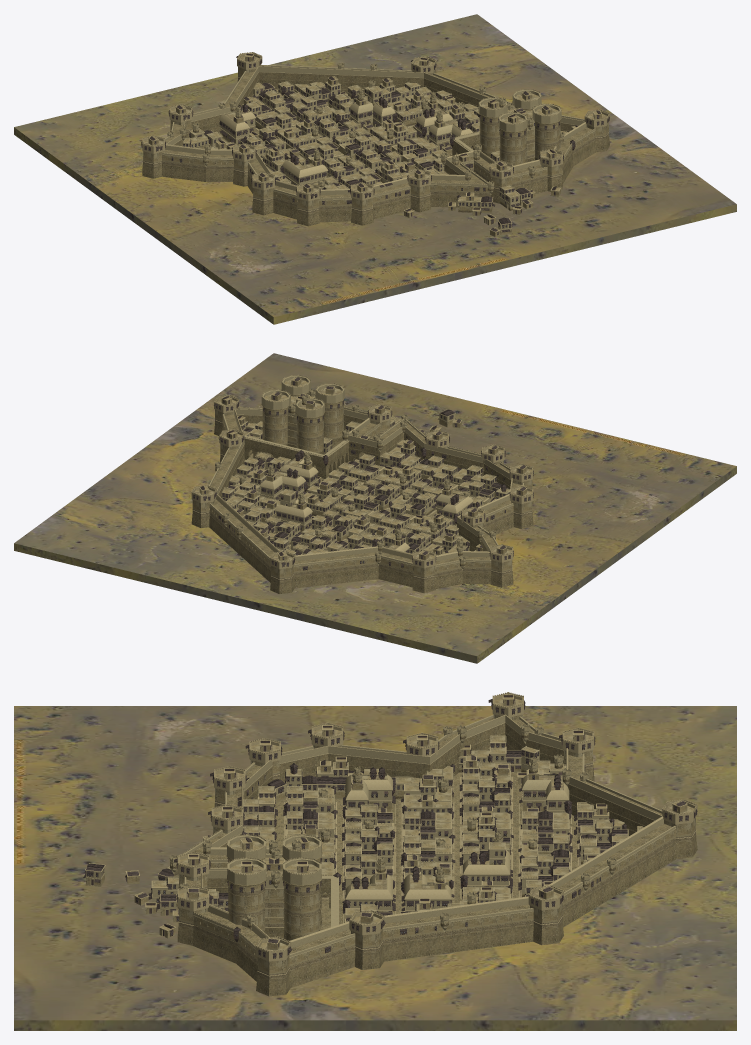
Rendered from persian-city-fortress.glb.
3 renders of one model, top to bottom at view 1: azimuth 30°, elevation 25°; view 2: azimuth 150°, elevation 25°; view 3: azimuth 270°, elevation 25°, orthographic. The views are drawn at different scales.
Visible parts, largest first — view 1: Object_3, Object_35, Object_11, Object_4, Object_49, Object_125, Object_84, Object_6, Object_44; view 2: Object_3, Object_35, Object_11, Object_4, Object_49, Object_125, Object_84, Object_6, Object_44; view 3: Object_3, Object_35, Object_11, Object_4, Object_49, Object_125, Object_84, Object_6, Object_44.
Part boxes in pixels (x1,y1,x2,y2): Object_3: (14,14,736,324); Object_35: (142,53,608,236); Object_11: (162,57,595,229); Object_4: (142,72,609,226); Object_49: (142,52,609,232); Object_125: (141,53,609,234); Object_84: (141,54,609,235); Object_6: (145,63,609,234); Object_44: (167,67,563,212); Object_3: (14,353,736,663); Object_35: (192,377,532,582); Object_11: (209,375,524,569); Object_4: (191,388,533,593); Object_49: (191,375,533,579); Object_125: (193,377,533,569); Object_84: (193,380,533,570); Object_6: (193,383,530,569); Object_44: (215,394,495,566); Object_3: (14,706,736,1030); Object_35: (86,693,695,980); Object_11: (86,699,675,957); Object_4: (175,718,697,996); Object_49: (85,692,697,976); Object_125: (83,695,697,955); Object_84: (85,695,696,958); Object_6: (87,710,696,957); Object_44: (152,731,615,928).
Bounding box in the file's own units: 6797 × 997 × 6602.
9 materials, 9 textured.
